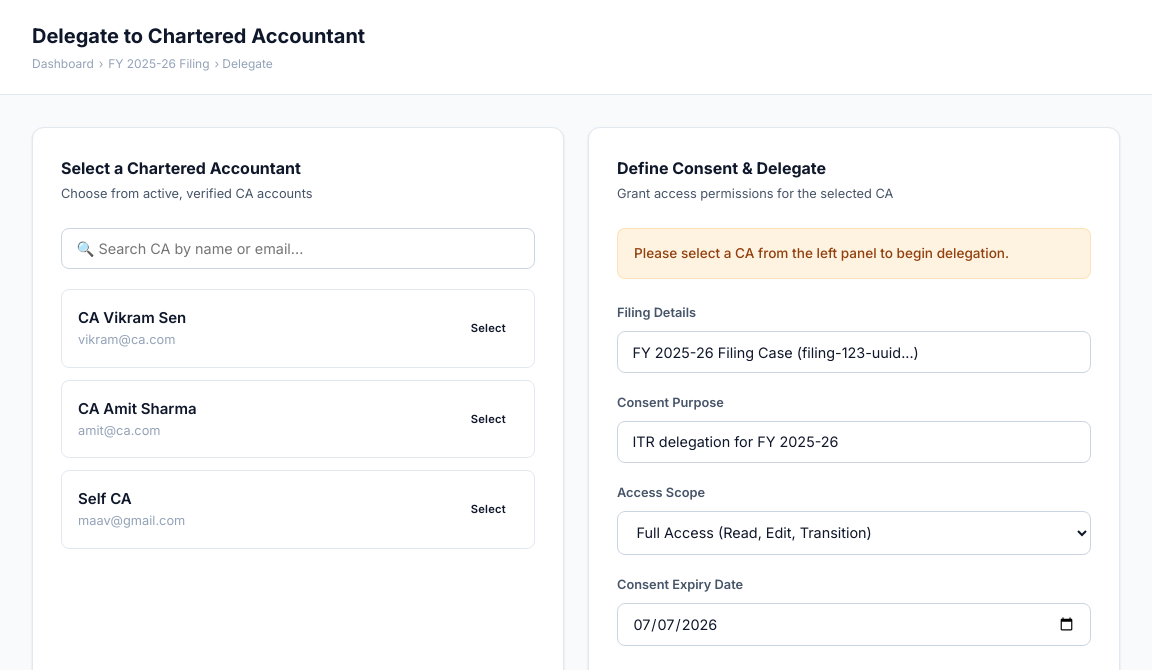
Test case: CA Assignment Workflow › prevents self-assignment and shows clear error feedback
Click the element with test id "ca-item-user-123".
click(298, 510)  # box [61, 470, 535, 549]
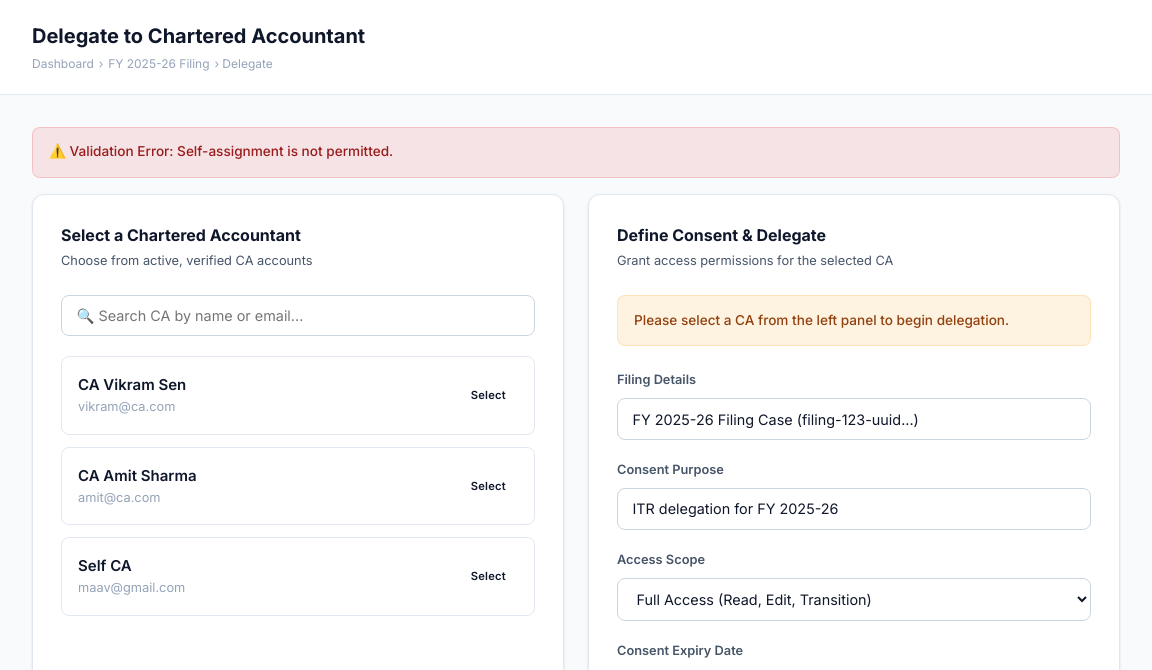
Check: the text with test id "error-alert" shows "Self-assignment is not permitted.", box [70, 143, 393, 159]
